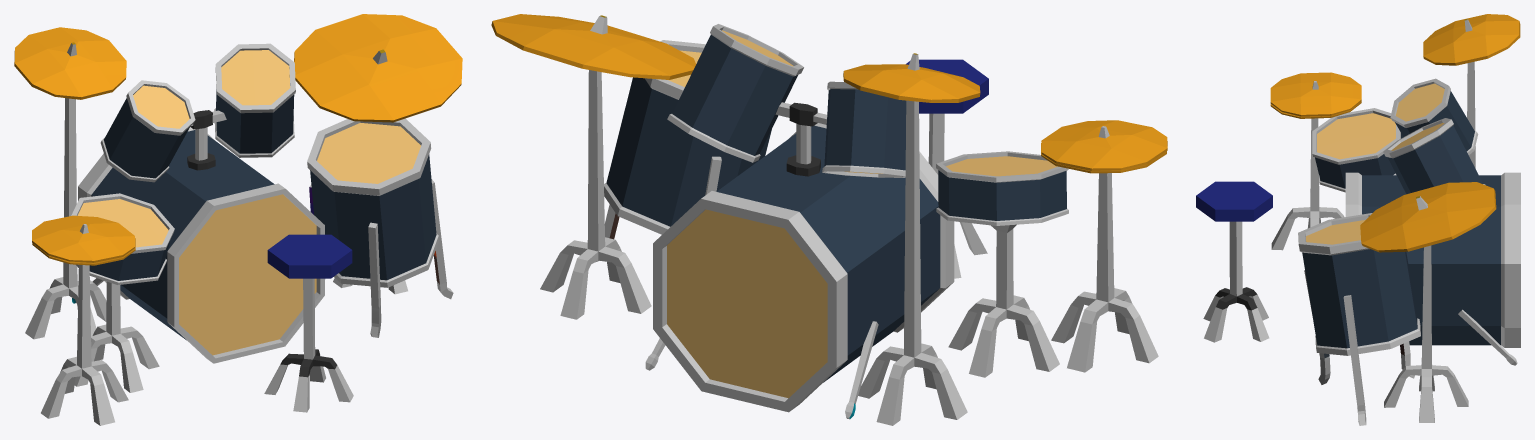
File: drum.fbx
The picture shows the model from 3 angles, left to right: view 1: azimuth 30°, elevation 25°; view 2: azimuth 150°, elevation 25°; view 3: azimuth 270°, elevation 25°; orthographic projection. The views are drawn at different scales.
Visible parts, largest first — view 1: drum; view 2: drum; view 3: drum.
Part boxes in pixels (x1,y1,x2,y2): drum: (14, 14, 462, 425); drum: (491, 14, 1167, 425); drum: (1196, 14, 1520, 425).
Bounding box in the file's own units: 502 × 297 × 329.
